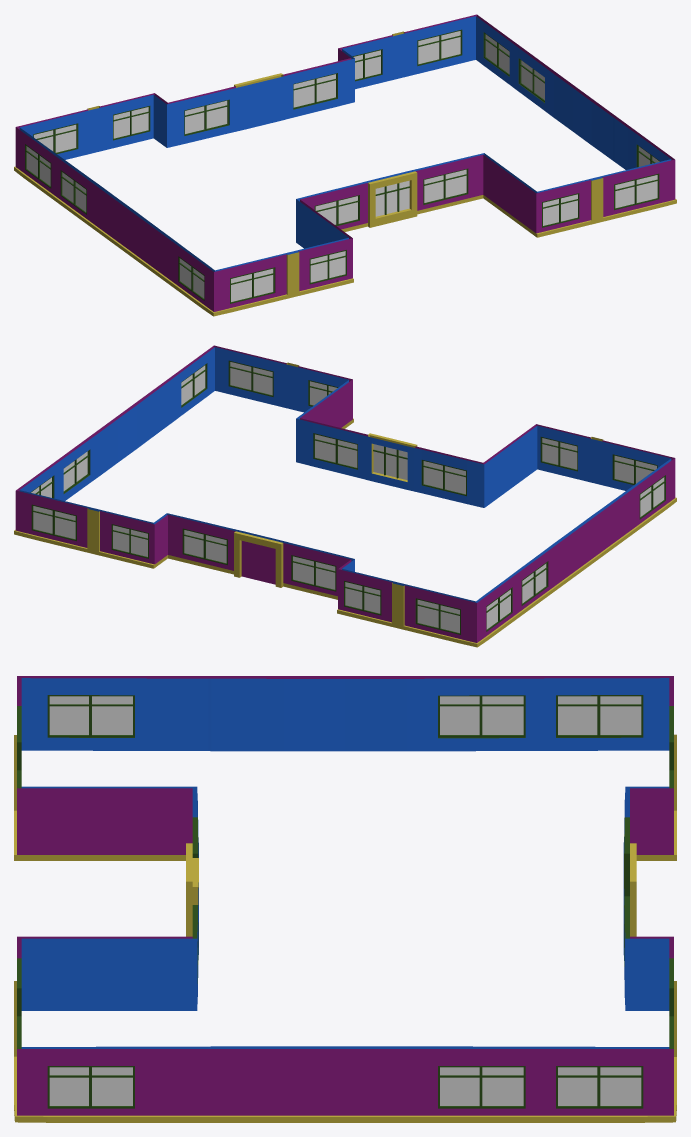
The model's file is SchoolF2.fbx.
3 views of the same model, one above another, from view 1: azimuth 30°, elevation 25°; view 2: azimuth 150°, elevation 25°; view 3: azimuth 270°, elevation 25° (orthographic). The views are drawn at different scales.
Parts seen in each view (by area): view 1: SchoolFloor2, WindowsF2; view 2: SchoolFloor2, WindowsF2; view 3: SchoolFloor2, WindowsF2.
Part boxes in pixels (x1,y1,x2,y2): SchoolFloor2: [14, 14, 676, 316]; WindowsF2: [25, 29, 660, 303]; SchoolFloor2: [14, 345, 676, 647]; WindowsF2: [30, 360, 665, 634]; SchoolFloor2: [14, 676, 676, 1122]; WindowsF2: [47, 695, 643, 1108].
Bounding box in the file's own units: 40.53 × 3.65 × 30.24.
